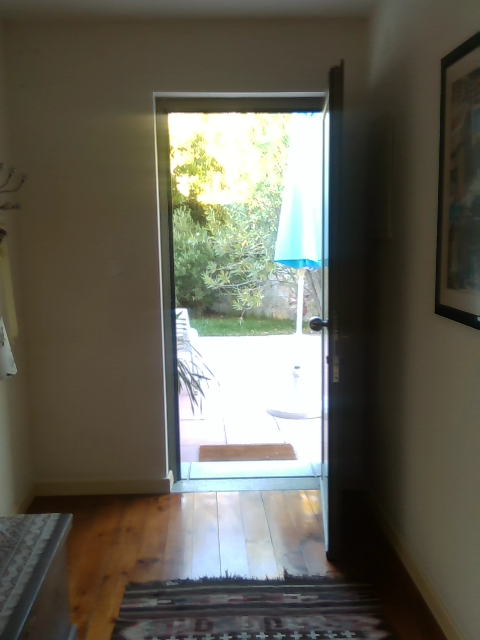open: (156, 56, 350, 555)
